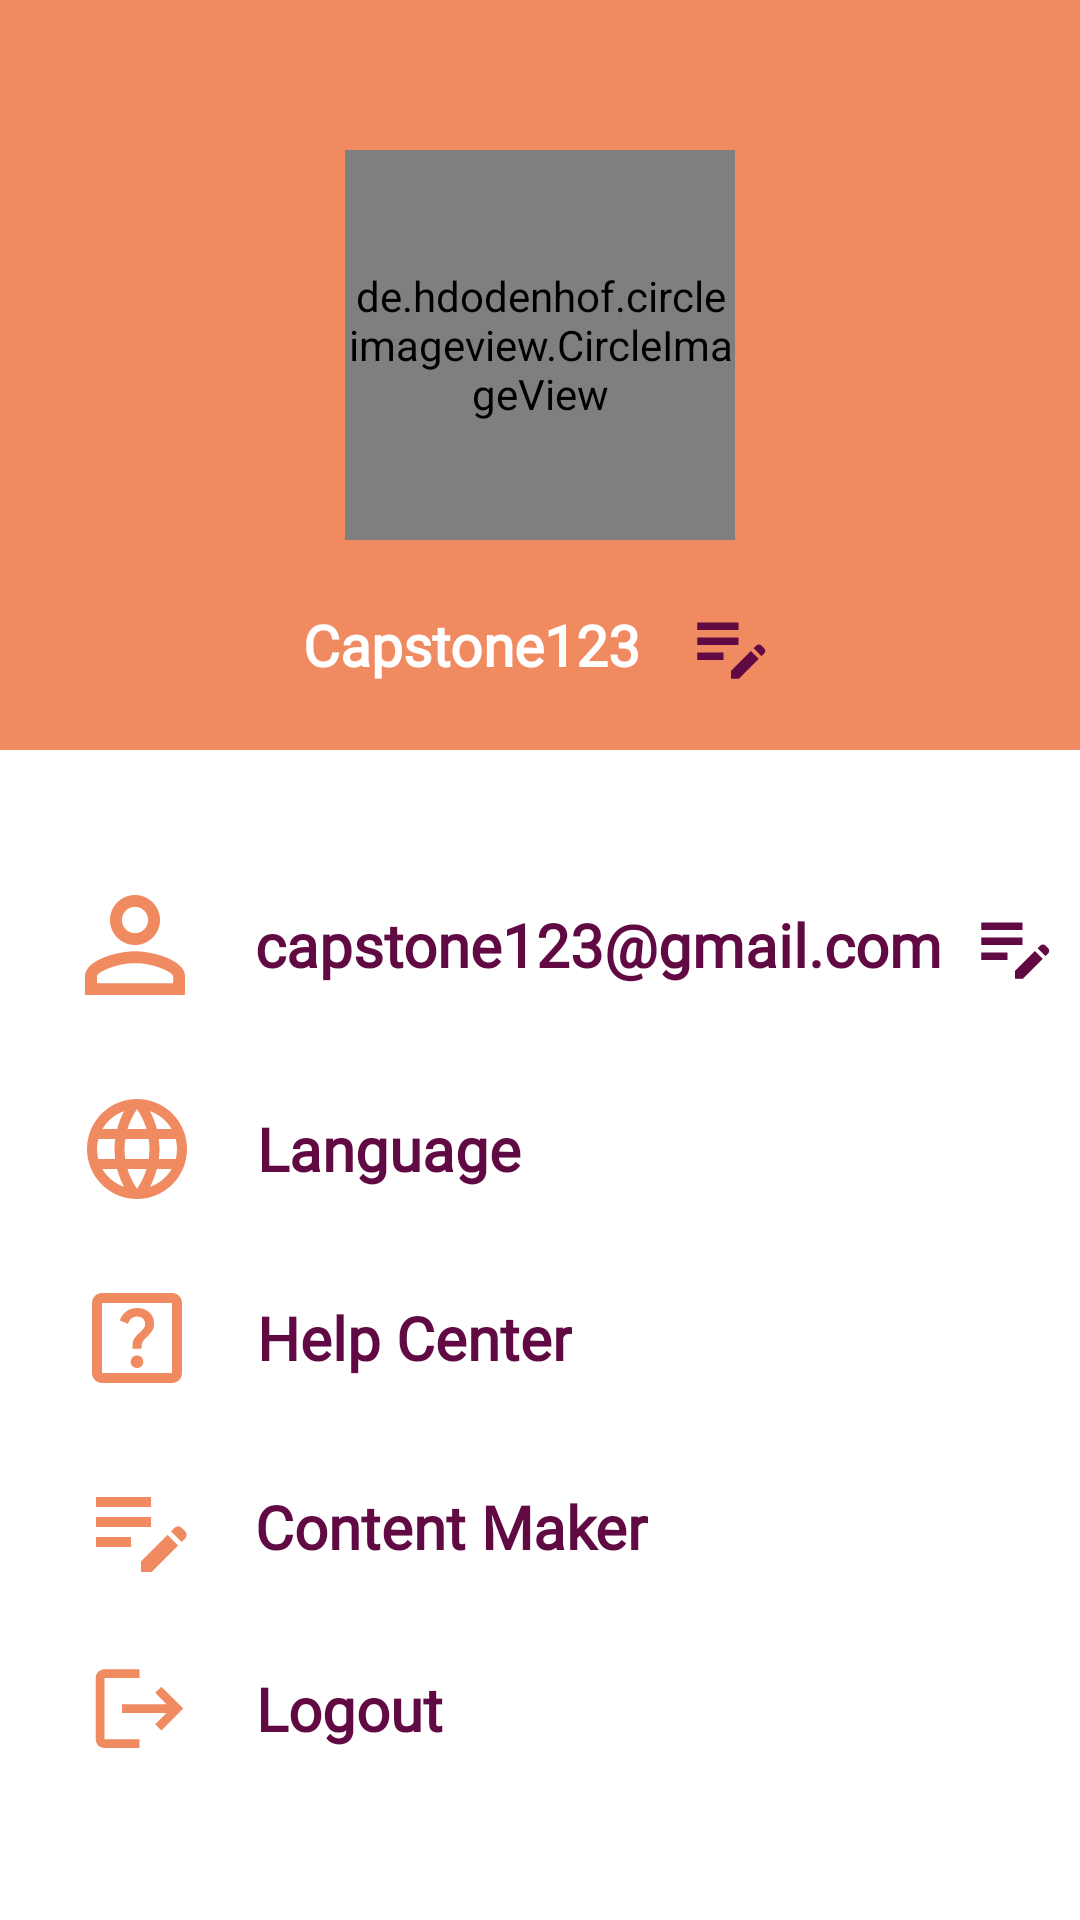

Icon click points for this 1080px x 1920px phone screenshot, format (x=x, y=y):
edit name: (x=731, y=650), (x=1015, y=950)
person: (x=135, y=945)
